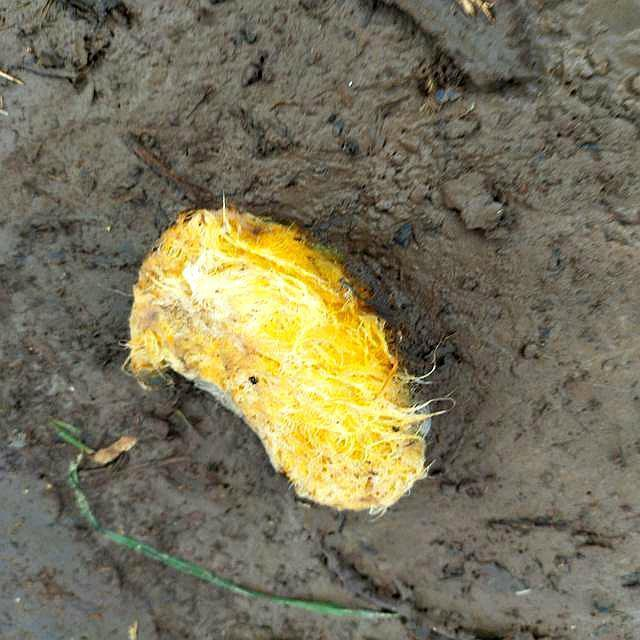Biodegradable: (133, 213, 443, 519)
